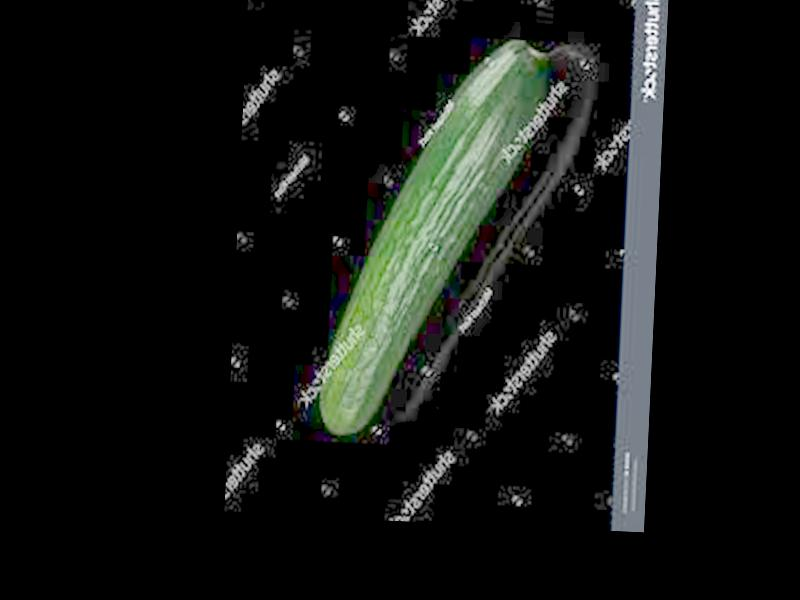Cucumber: (316, 32, 554, 446)
